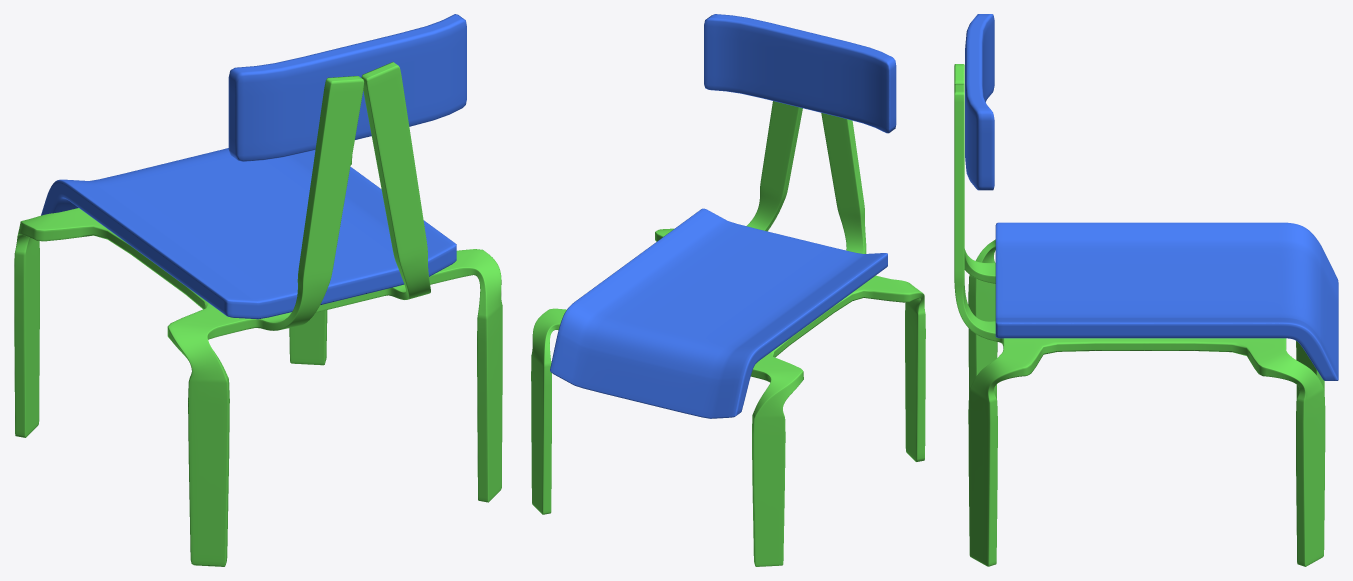
Rendered from Chair.fbx.
3 views of the same model, side by side, from view 1: azimuth 30°, elevation 25°; view 2: azimuth 150°, elevation 25°; view 3: azimuth 270°, elevation 25° (orthographic). The views are drawn at different scales.
Visible parts, largest first — view 1: Foundation_High, Mainchair_High, Backrest_High; view 2: Mainchair_High, Foundation_High, Backrest_High; view 3: Mainchair_High, Foundation_High, Backrest_High.
Boxes of the visible parts, x1=… form: Foundation_High: x1=14, y1=62, x2=502, y2=566; Mainchair_High: x1=41, y1=148, x2=456, y2=319; Backrest_High: x1=228, y1=14, x2=466, y2=161; Mainchair_High: x1=550, y1=208, x2=887, y2=418; Foundation_High: x1=531, y1=101, x2=925, y2=566; Backrest_High: x1=704, y1=14, x2=896, y2=133; Mainchair_High: x1=995, y1=222, x2=1338, y2=380; Foundation_High: x1=954, y1=64, x2=1325, y2=566; Backrest_High: x1=965, y1=14, x2=994, y2=190.
Size of the model in its own units: 1.87 by 2.69 by 2.15.
